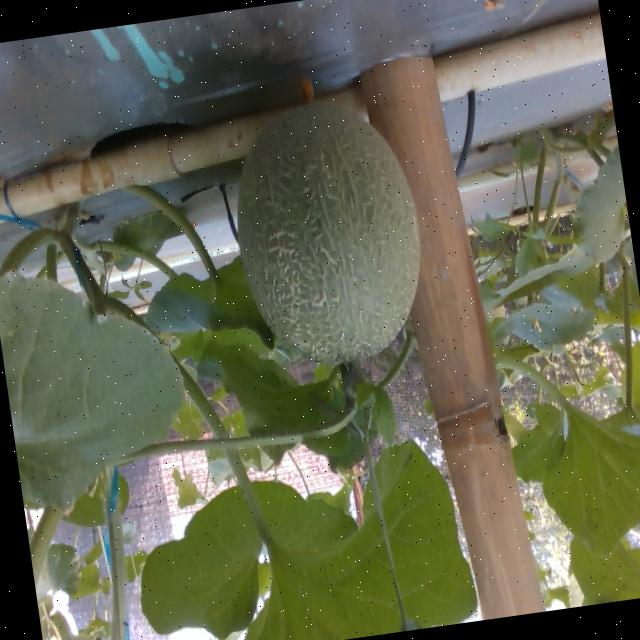melon: (237, 103, 418, 363)
